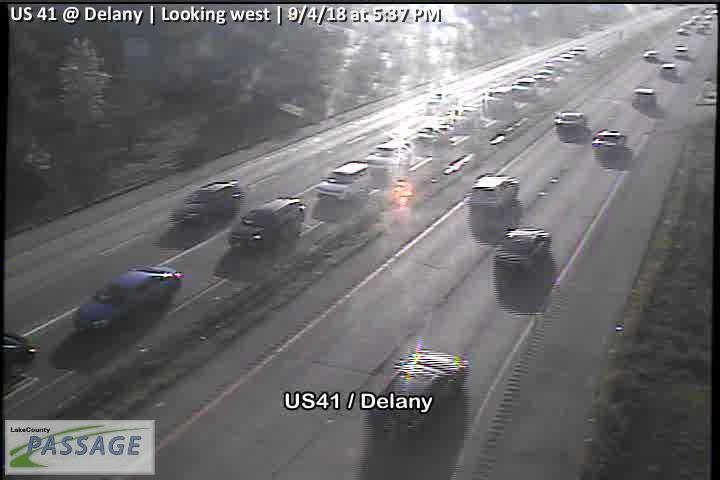SUV: (231, 197, 304, 252), (170, 180, 239, 225)
Sedan: (369, 348, 469, 442), (73, 264, 183, 339), (494, 225, 551, 272)
